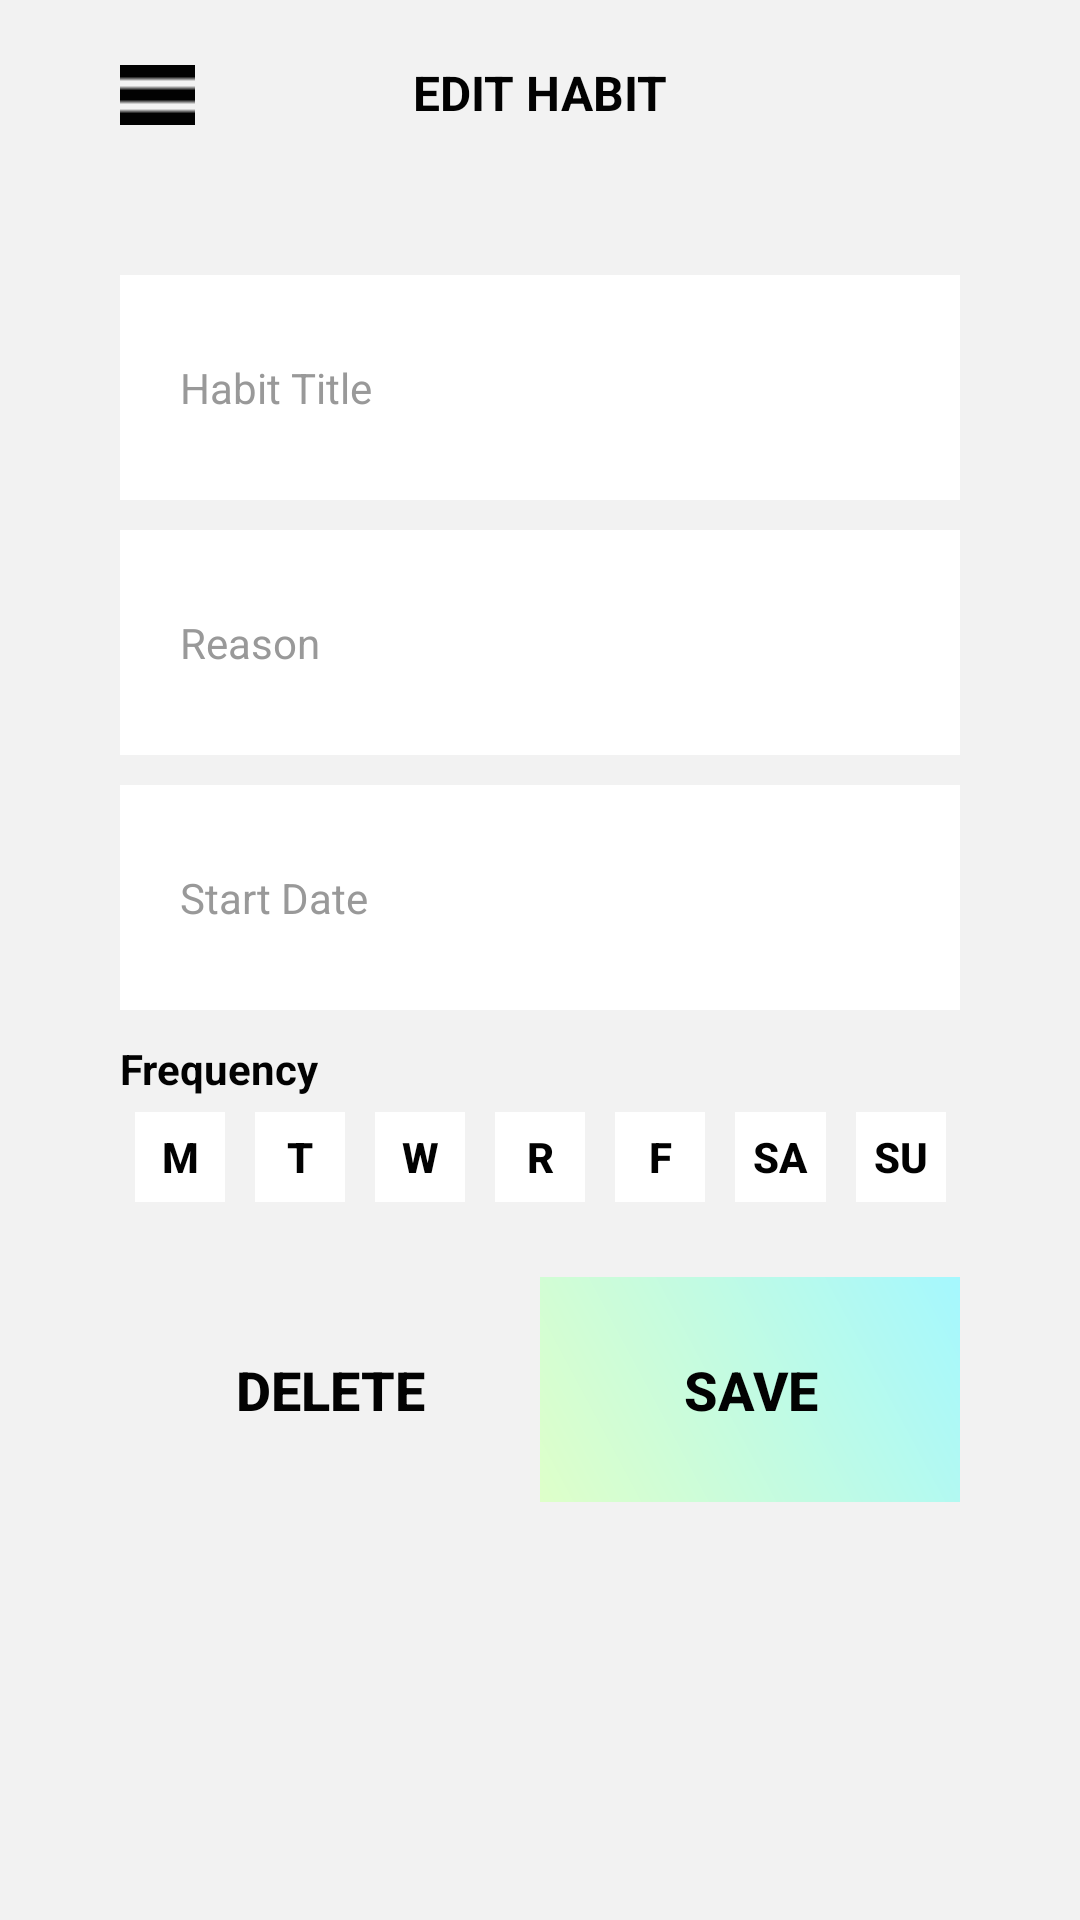

Icon bounding boxes for this 1080*1920 phone screenshot, format {"left": x1, "top": y1, "right": x2, "bottom": y2}:
menu: {"left": 120, "top": 65, "right": 195, "bottom": 125}
